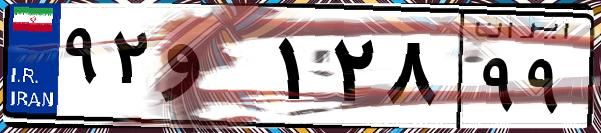1: (270, 28, 330, 110)
2: (330, 28, 385, 110), (110, 28, 158, 98)
8: (385, 28, 445, 110)
9: (57, 26, 110, 100), (475, 38, 525, 113), (525, 38, 570, 115)
و: (158, 20, 270, 120)
